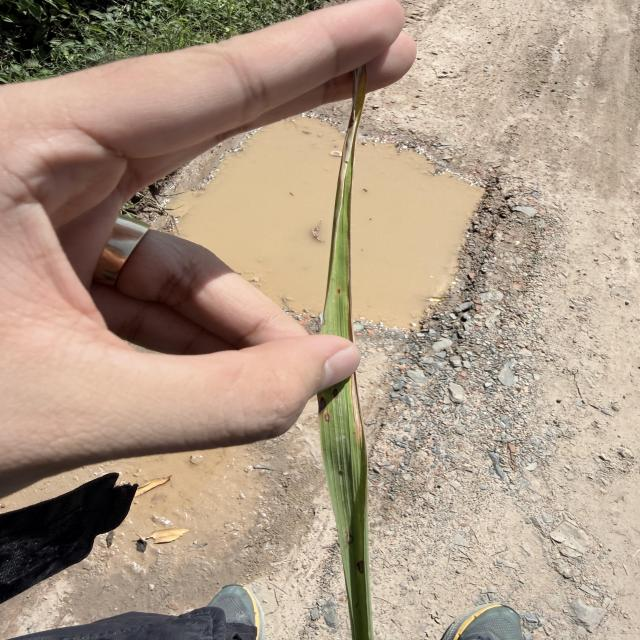Chay bia la: (321, 63, 369, 320), (346, 370, 367, 444)
